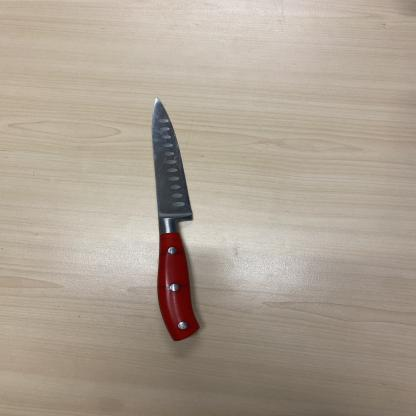Knife: (150, 97, 205, 344)
